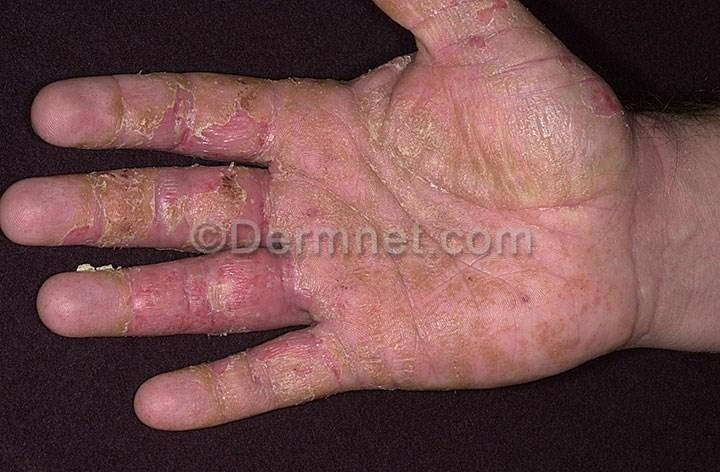Eczema: (407, 258, 603, 348), (107, 273, 394, 330), (81, 173, 345, 216), (114, 81, 297, 138), (282, 338, 392, 382), (418, 0, 518, 41), (193, 367, 280, 403), (584, 77, 630, 135), (555, 47, 582, 79)
